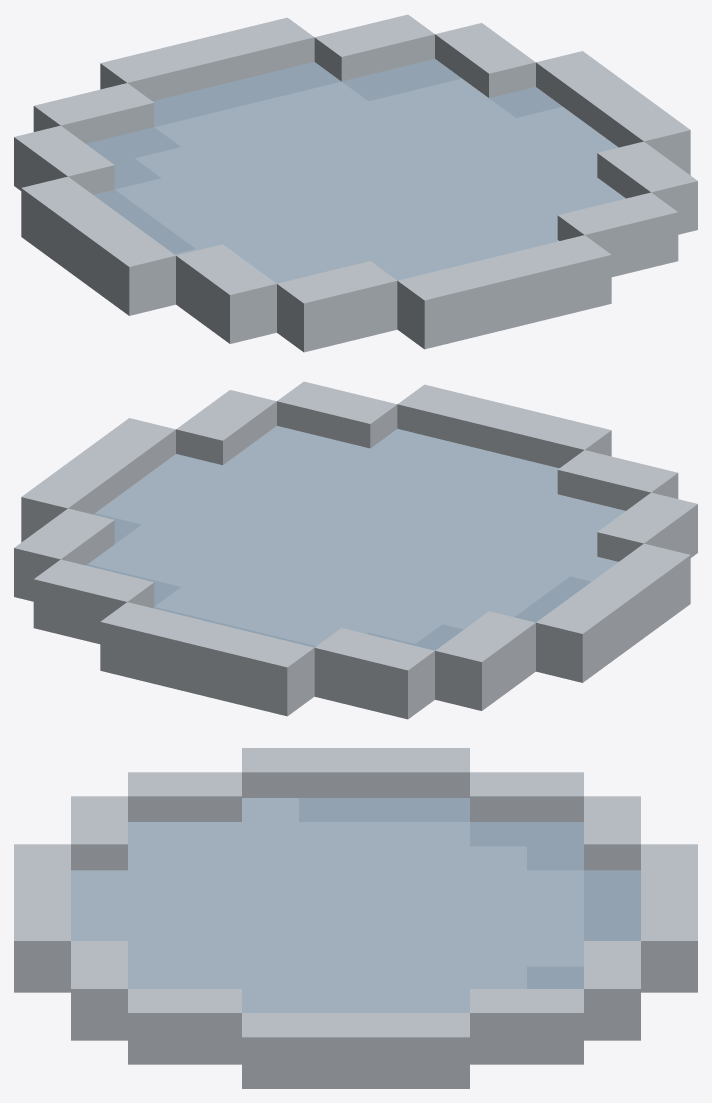
The model's file is memorial-table.vox-1-plate.obj.
The picture shows the model from 3 angles, top to bottom: view 1: azimuth 30°, elevation 25°; view 2: azimuth 150°, elevation 25°; view 3: azimuth 270°, elevation 25°; orthographic projection. The views are drawn at different scales.
Parts seen in each view (by area): view 1: plate; view 2: plate; view 3: plate.
Part boxes in pixels (bbox=[...]): plate: bbox=[14, 14, 697, 352]; plate: bbox=[14, 381, 697, 719]; plate: bbox=[14, 748, 697, 1088].
Bounding box in the file's own units: 2.4 × 0.2 × 2.4.
1 material, 1 textured.
